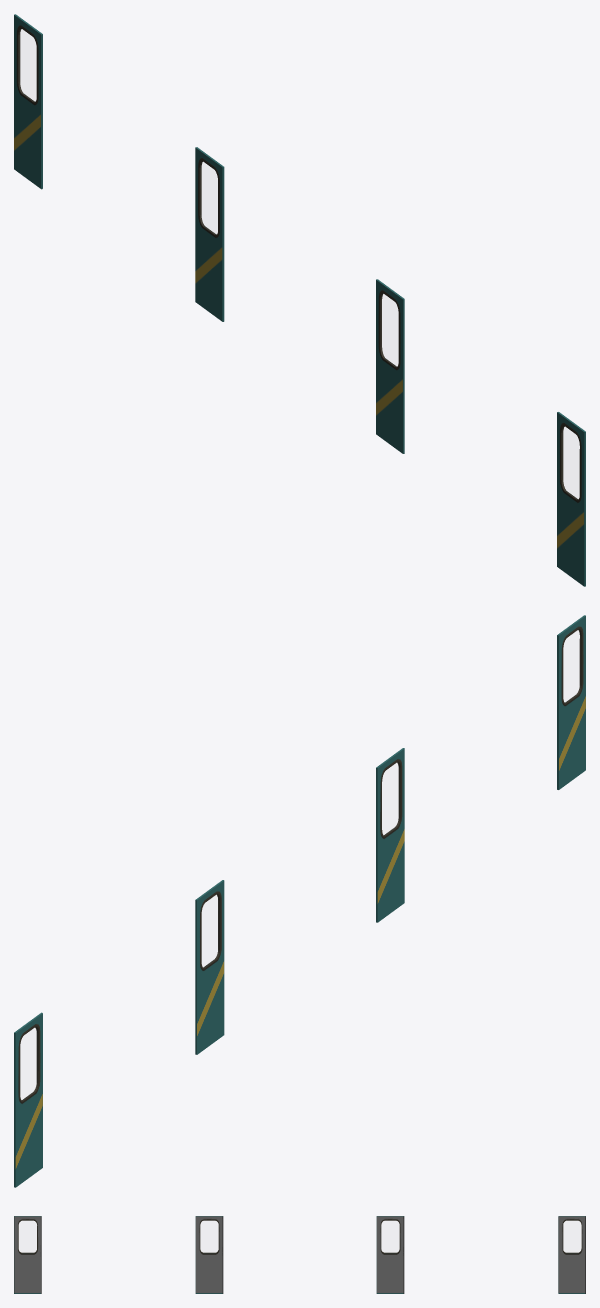
Rendered from SubwayTrain05_DoorR1.FBX.
3 renders of one model, top to bottom at view 1: azimuth 30°, elevation 25°; view 2: azimuth 150°, elevation 25°; view 3: azimuth 270°, elevation 25°, orthographic. The views are drawn at different scales.
Parts seen in each view (by area): view 1: SubwayTrain05_DoorR1; view 2: SubwayTrain05_DoorR1; view 3: SubwayTrain05_DoorR1.
Part boxes in pixels (x1,y1,x2,y2): SubwayTrain05_DoorR1: (14, 14, 585, 586); SubwayTrain05_DoorR1: (14, 615, 585, 1187); SubwayTrain05_DoorR1: (14, 1216, 585, 1293).
Size of the model in its own units: 31.8 by 2619 by 17517.
